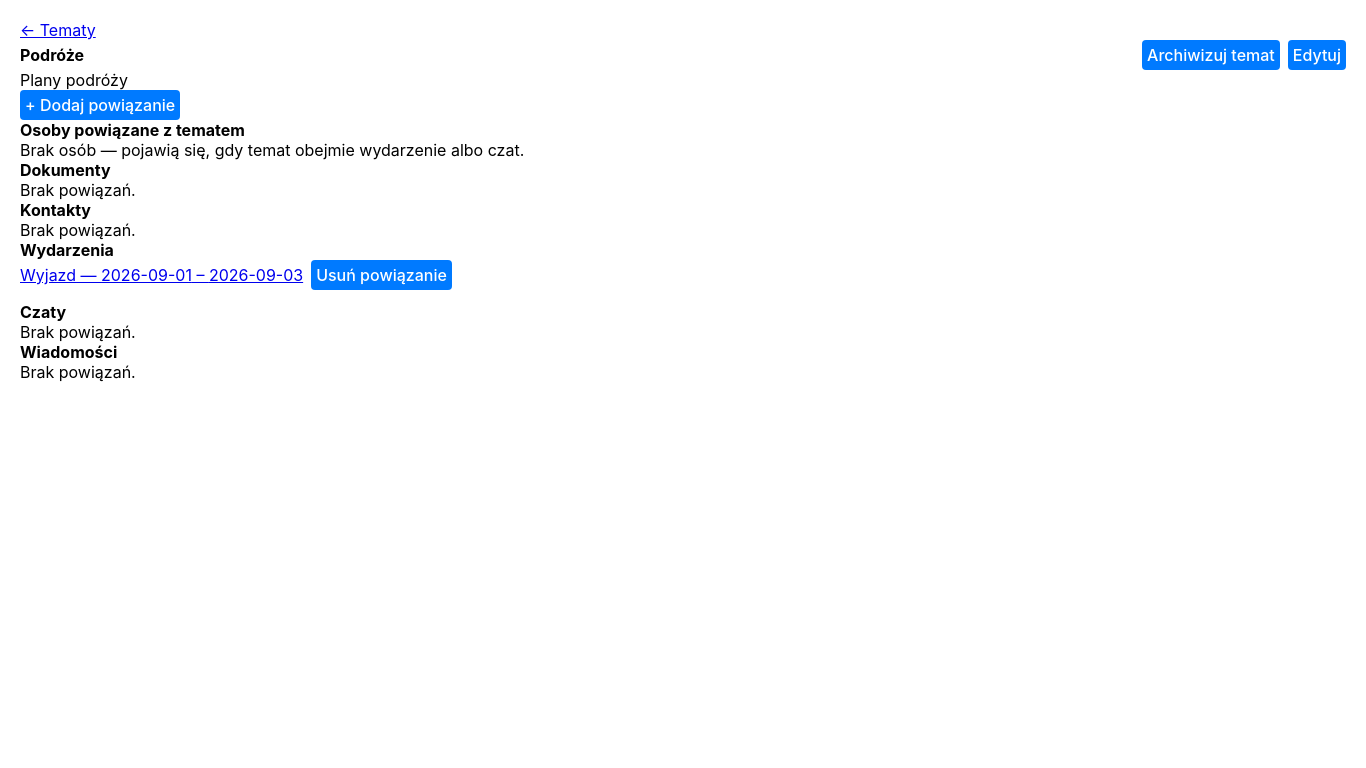
TopicDetail › presents links without forms and restores saved values on cancel
Check: the heading "Podróże" is shown, box x1=20 y1=45 x2=84 y2=65
Check: the text "Plany podróży" is shown, box x1=20 y1=70 x2=128 y2=90
Click the button "Edytuj".
click(1317, 55)  # box x1=1288 y1=40 x2=1346 y2=70
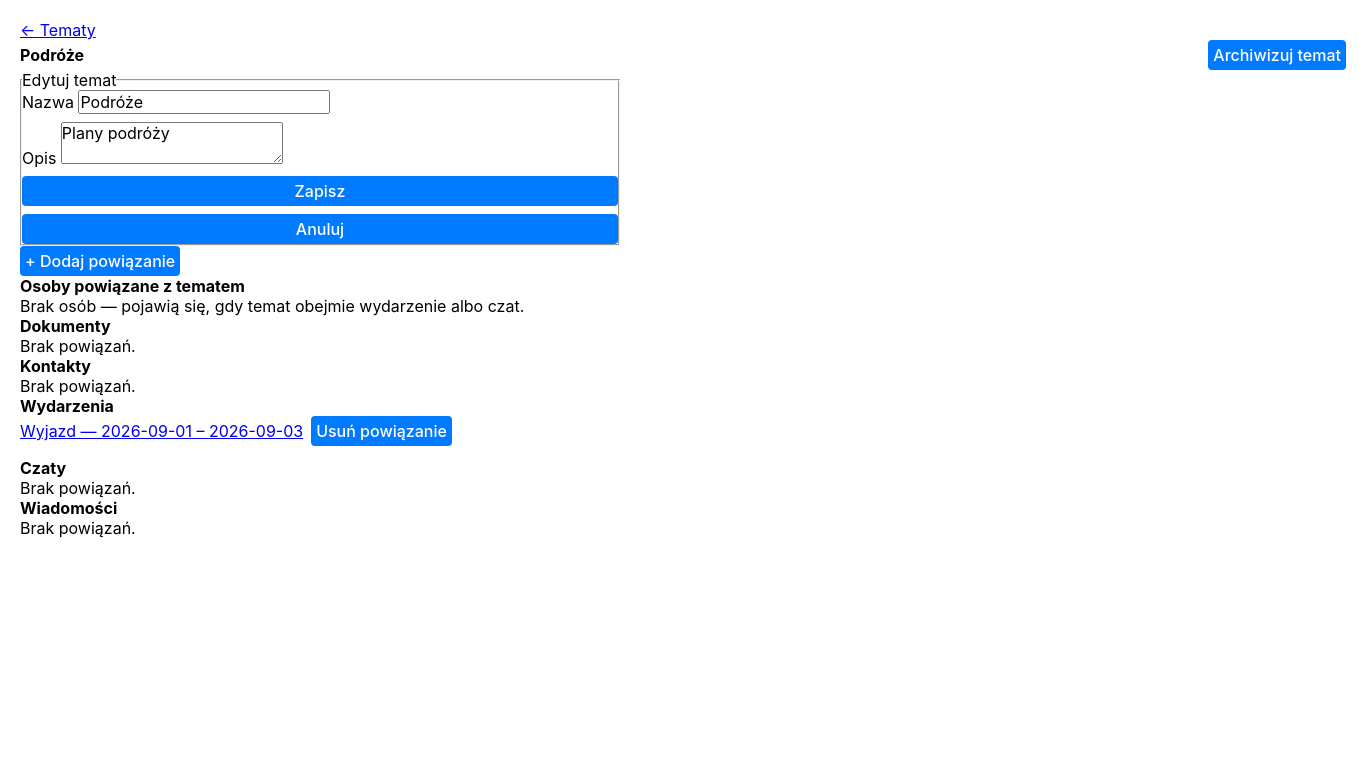
Replace the text in the field labelled "Nazwa" with "Zmiana" at {"x": 204, "y": 102}, box x1=78 y1=90 x2=330 y2=114
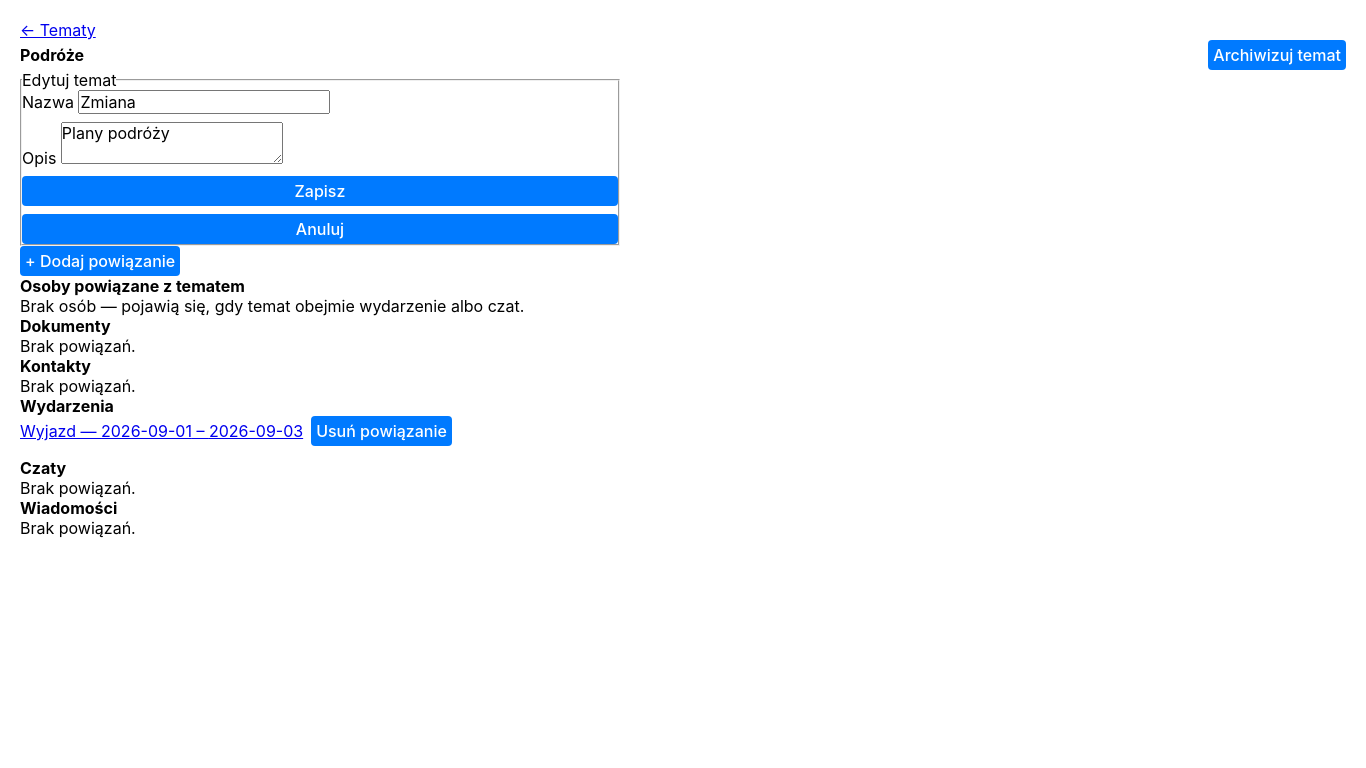
Replace the text in the text box labelled "Opis" with "Nowy opis" at {"x": 172, "y": 143}, box x1=61 y1=122 x2=283 y2=164
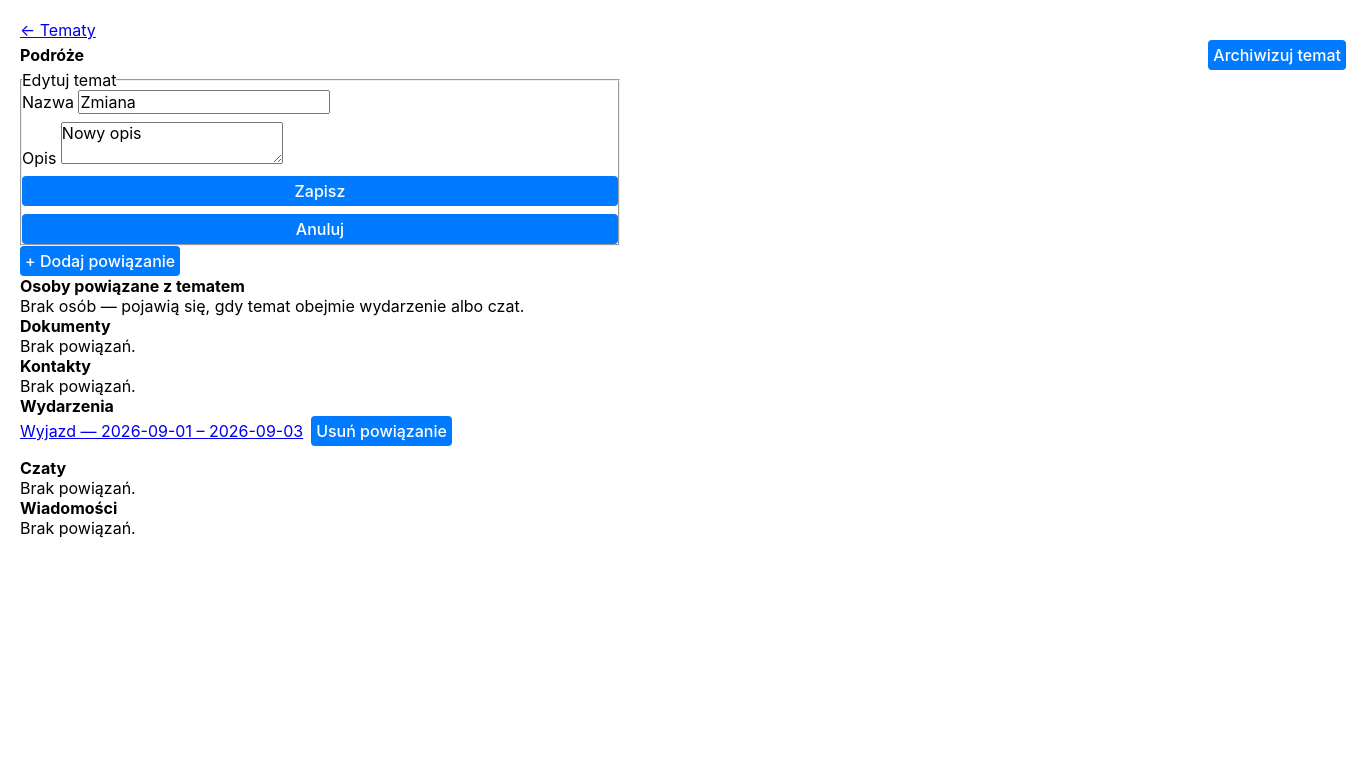
Click the button "Anuluj".
click(320, 229)  # box x1=22 y1=214 x2=618 y2=244
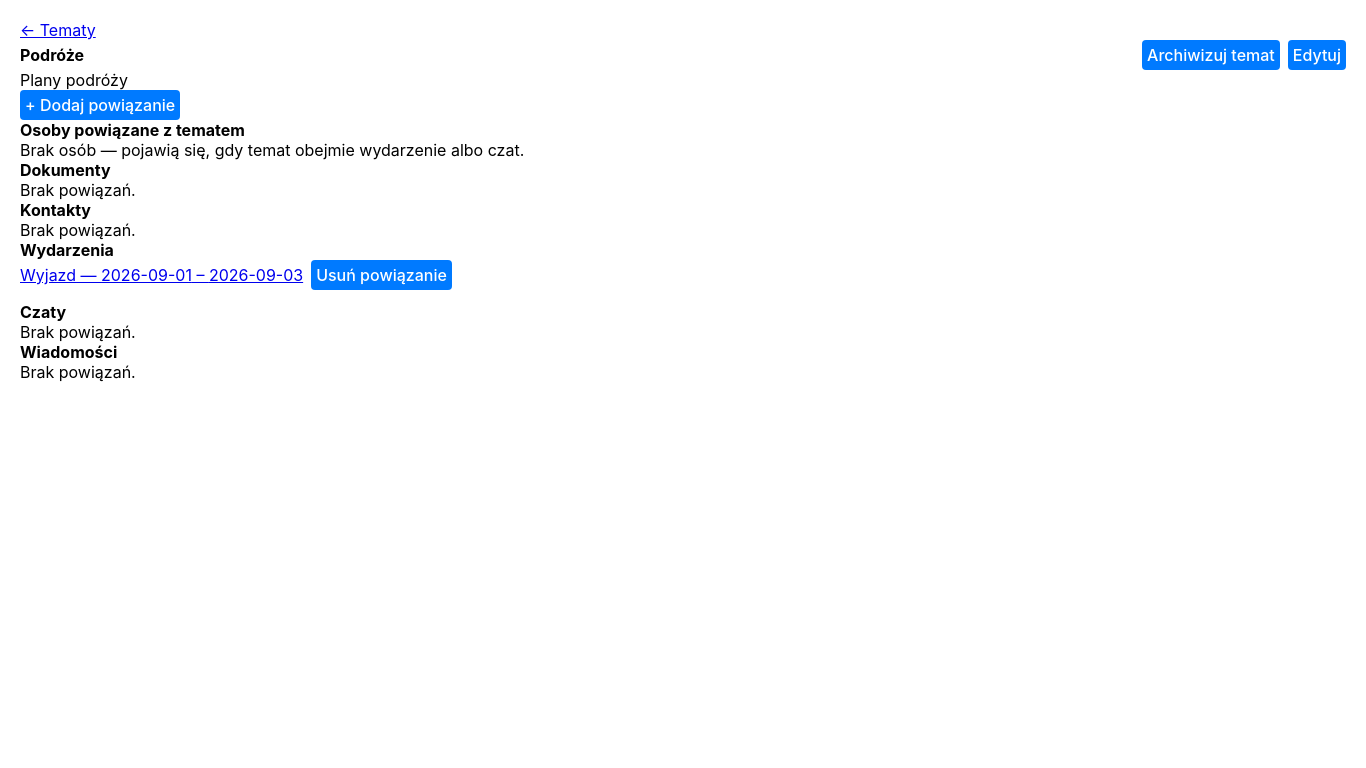
Check: the field is gone
Click the button "Edytuj".
click(1317, 55)  # box x1=1288 y1=40 x2=1346 y2=70
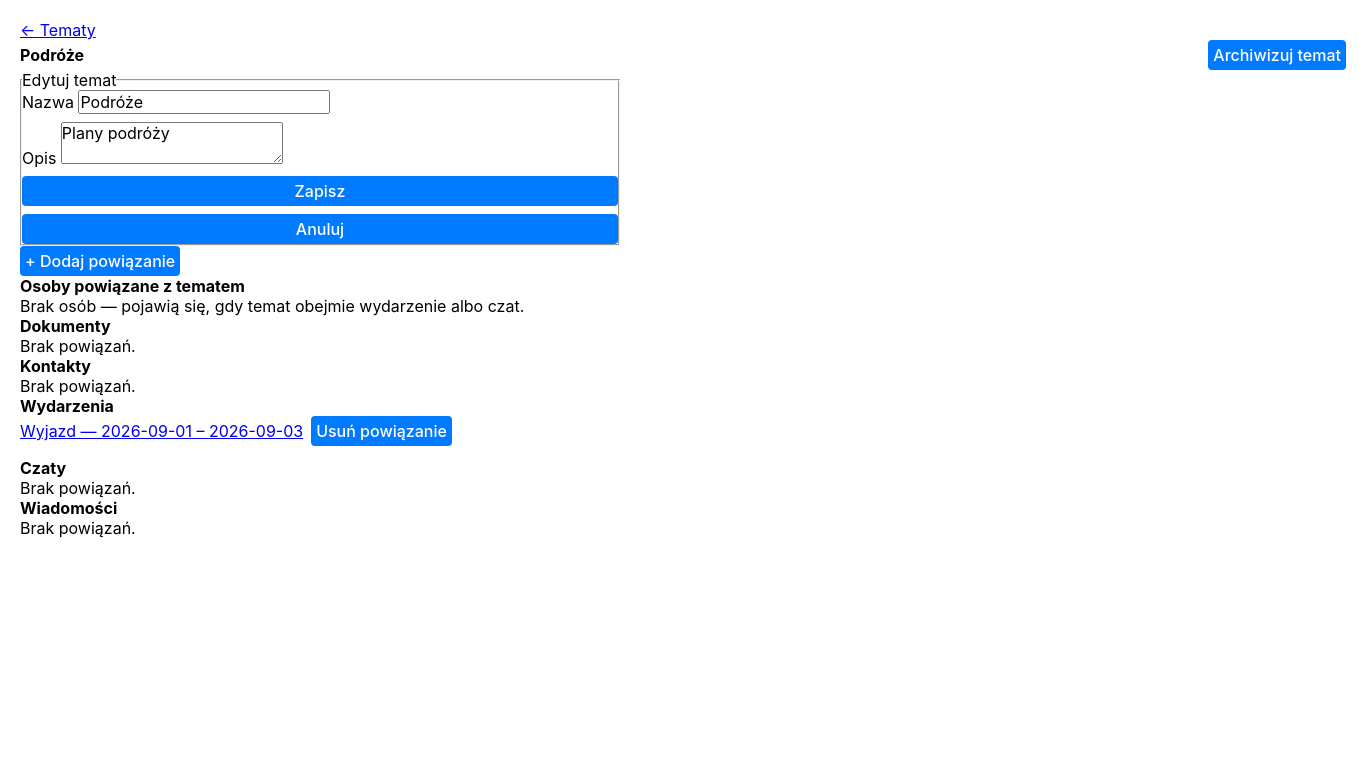
Check: the field labelled "Nazwa" holds "Podróże", box x1=78 y1=90 x2=330 y2=114
Check: the text box labelled "Opis" holds "Plany podróży", box x1=61 y1=122 x2=283 y2=164
